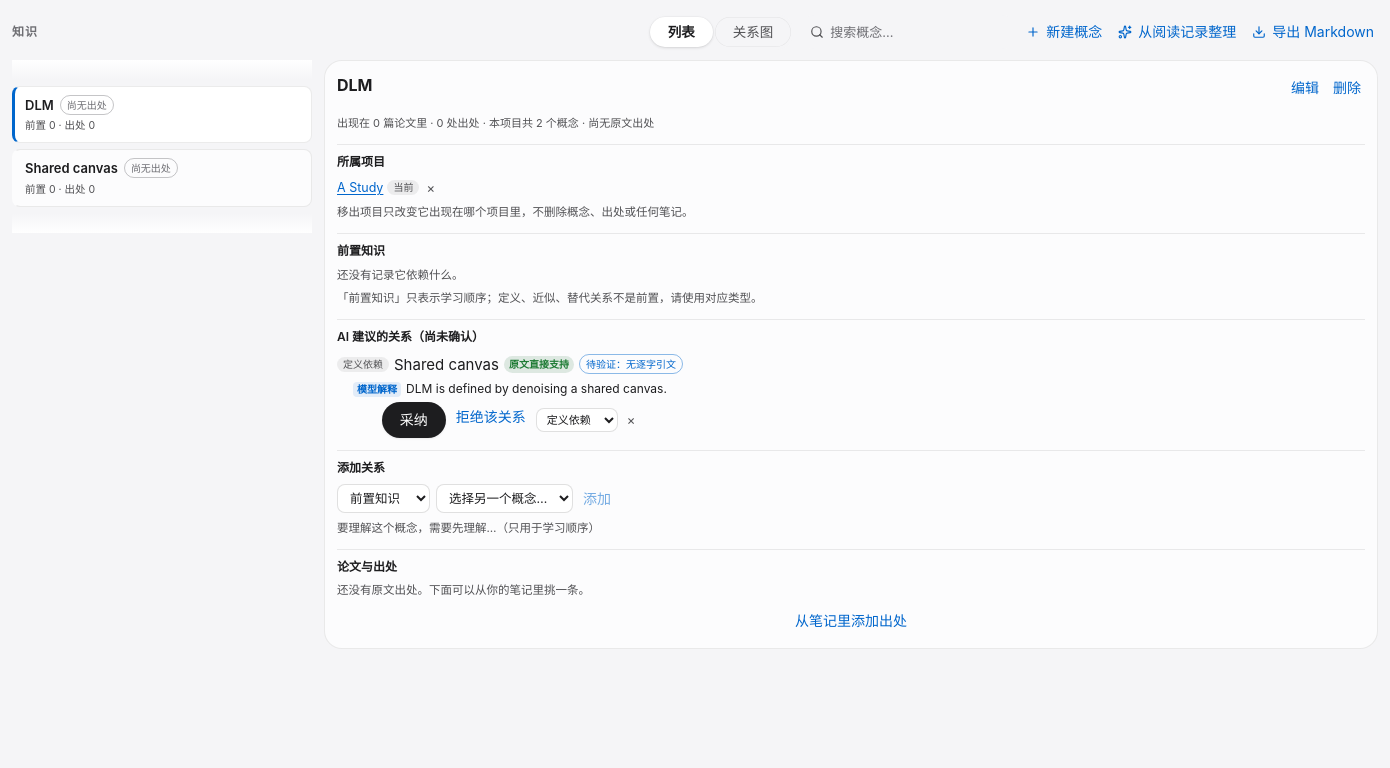
Test: KnowledgeView: relations › rejects a suggestion persistently and can undo the rejection
Expected: the heading "AI 建议的关系（尚未确认）" is shown, [337,329,484,344]
Click the button "拒绝该关系".
click(491, 417)  # box [452,402,530,432]
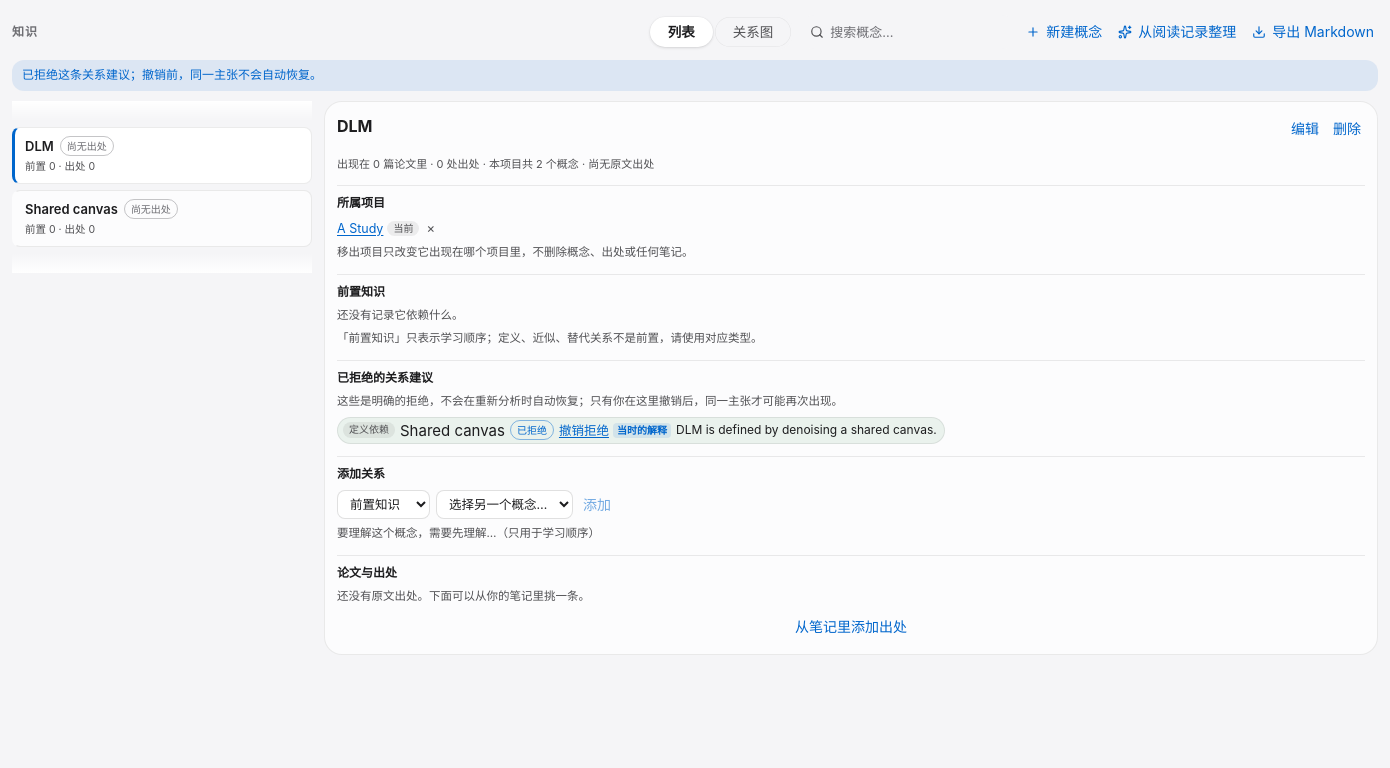
Expected: the heading "已拒绝的关系建议" is shown, [337,370,433,385]
Expected: the heading "AI 建议的关系" is gone
Click the button "撤销拒绝".
click(584, 430)  # box [559,420,609,440]
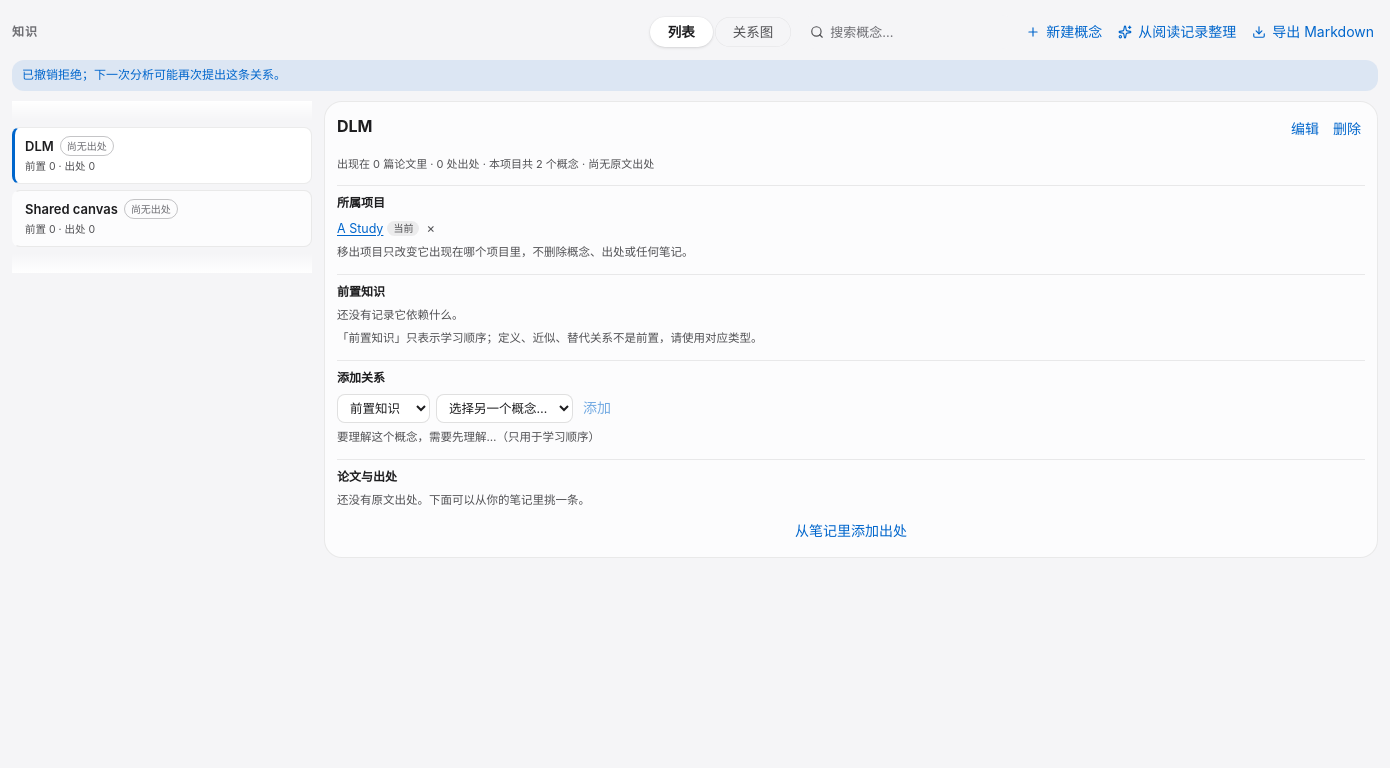
Expected: the heading "AI 建议的关系" is not shown
Expected: the heading "已拒绝的关系建议" is gone
